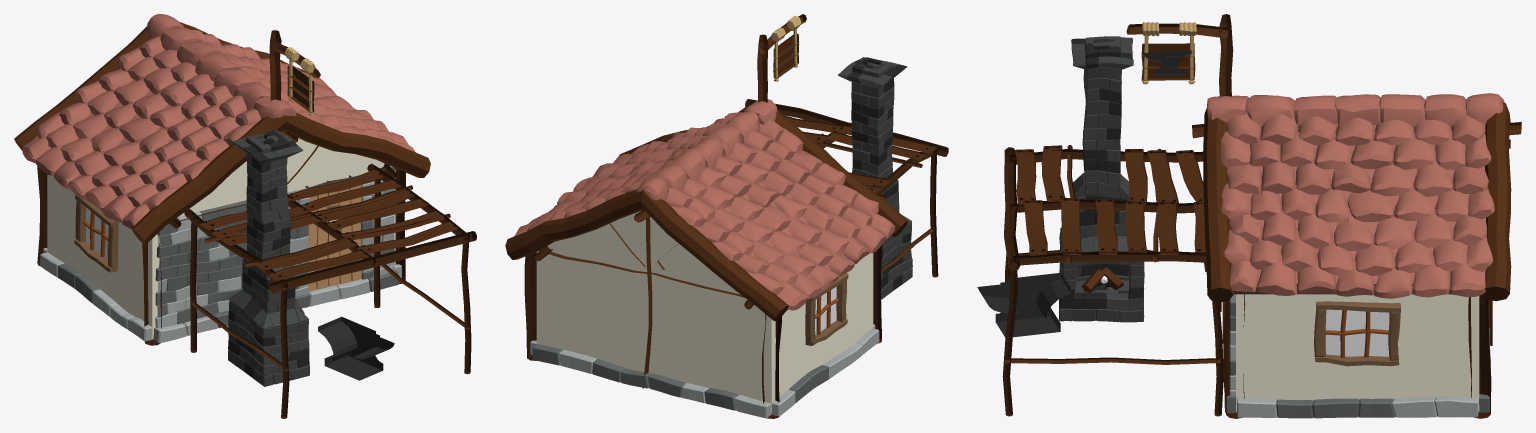
Rendered from Blacksmith.fbx.
3 views of the same model, side by side, from view 1: azimuth 30°, elevation 25°; view 2: azimuth 150°, elevation 25°; view 3: azimuth 270°, elevation 25° (orthographic). The views are drawn at different scales.
Parts seen in each view (by area): view 1: SmithyFurnace; view 2: SmithyFurnace; view 3: SmithyFurnace.
Part boxes in pixels (x1,y1,x2,y2): SmithyFurnace: [14, 14, 476, 418]; SmithyFurnace: [505, 14, 948, 418]; SmithyFurnace: [977, 14, 1521, 418].
Bounding box in the file's own units: 573 × 548 × 787.
